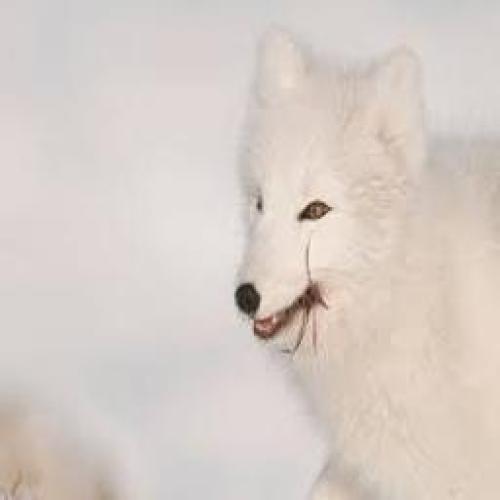arctic_fox-endangered: (232, 25, 500, 500)
